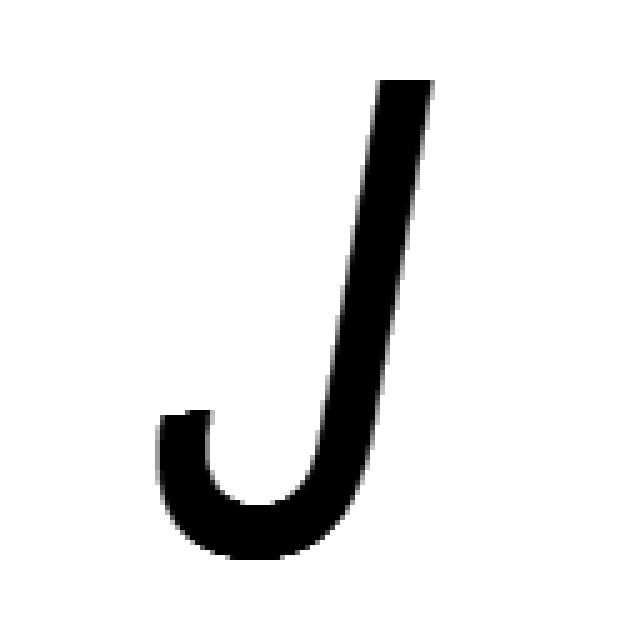J: (145, 70, 440, 565)
